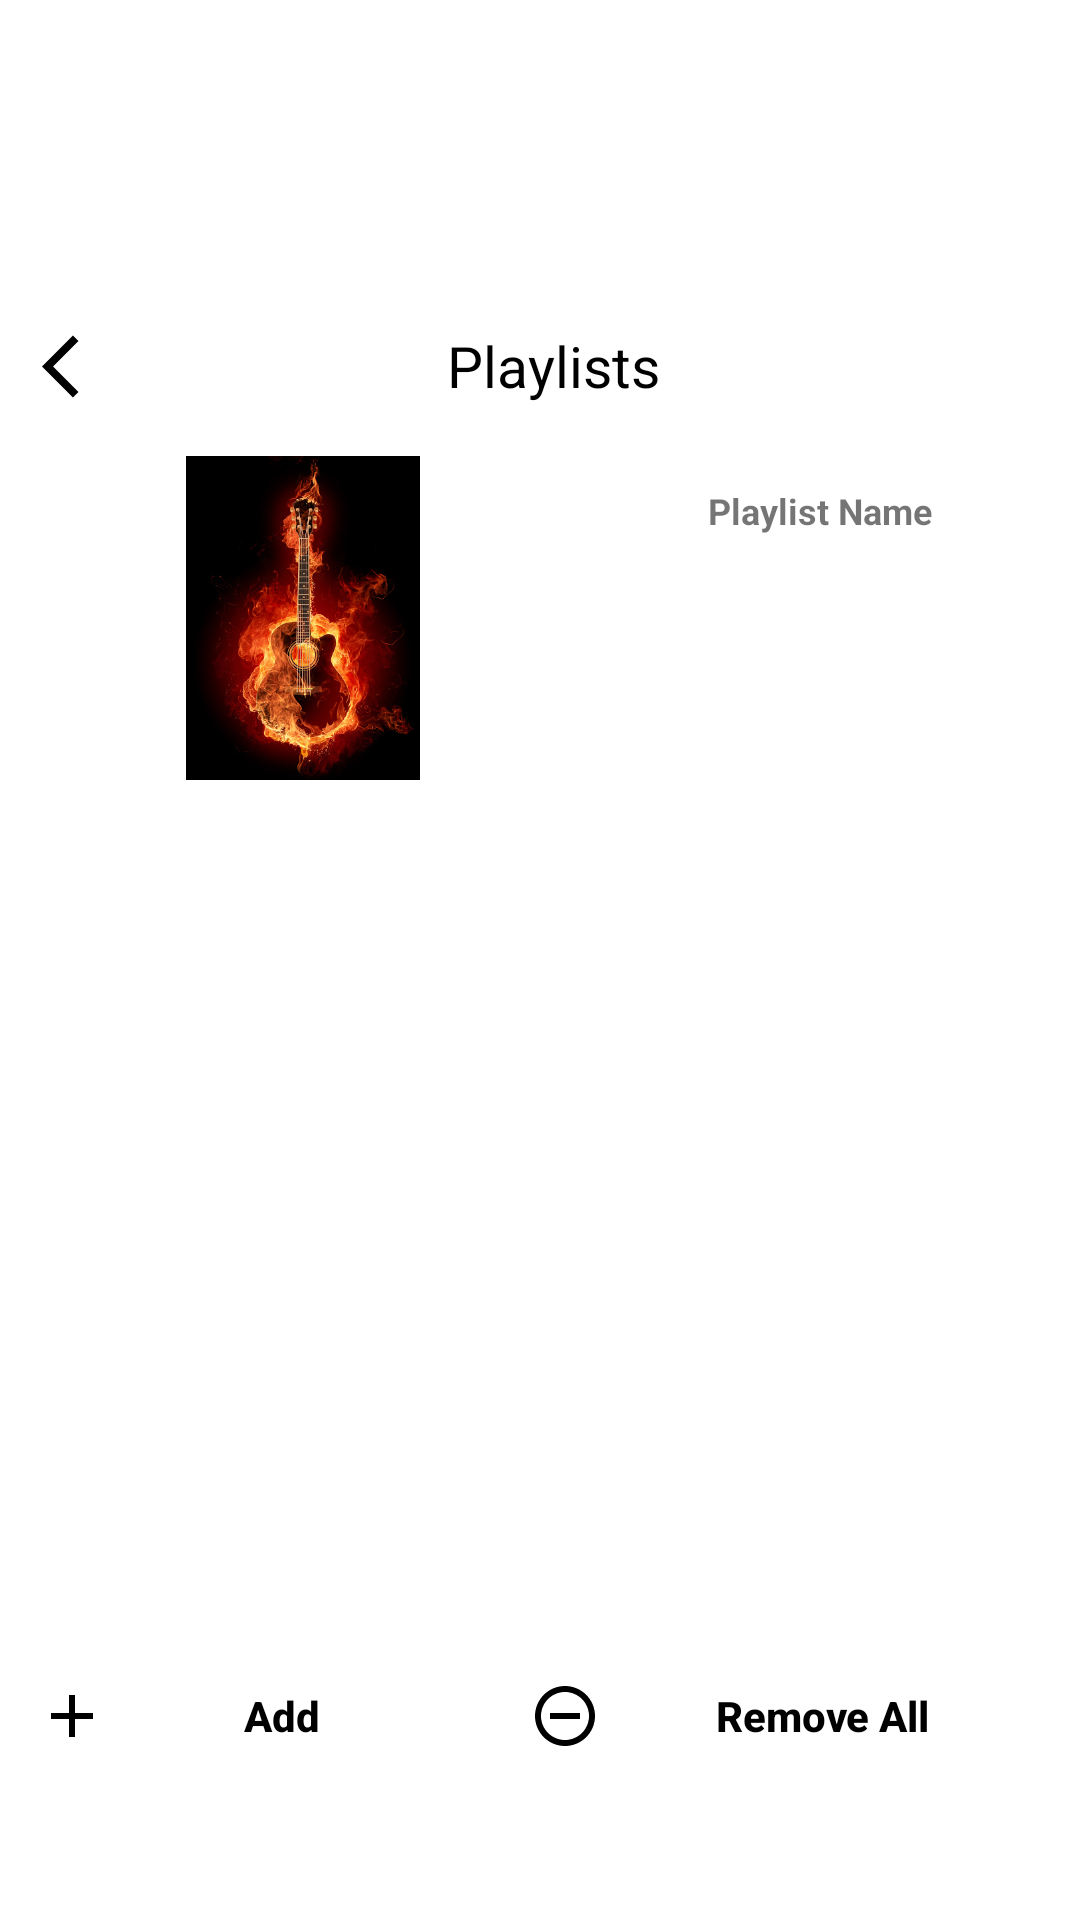

Screen size 1080w x 1920h. Icon name, then its center in pixels as (x=x, y=y):
Back: (x=60, y=366)
